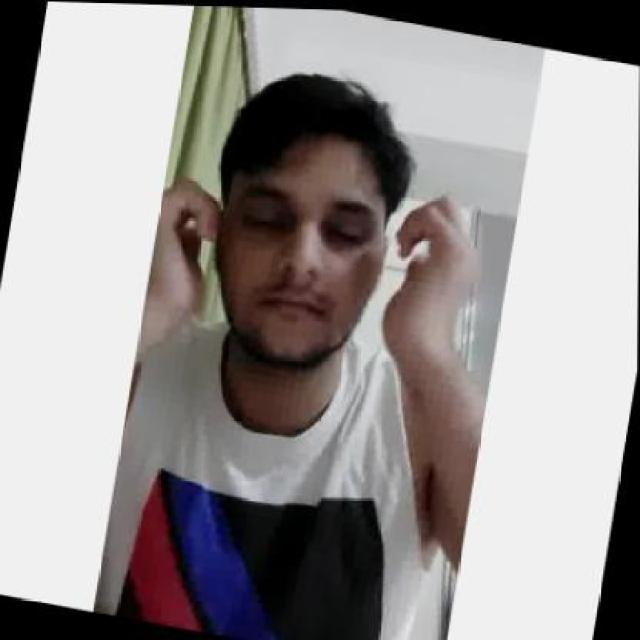inattentif: (188, 56, 415, 381)
